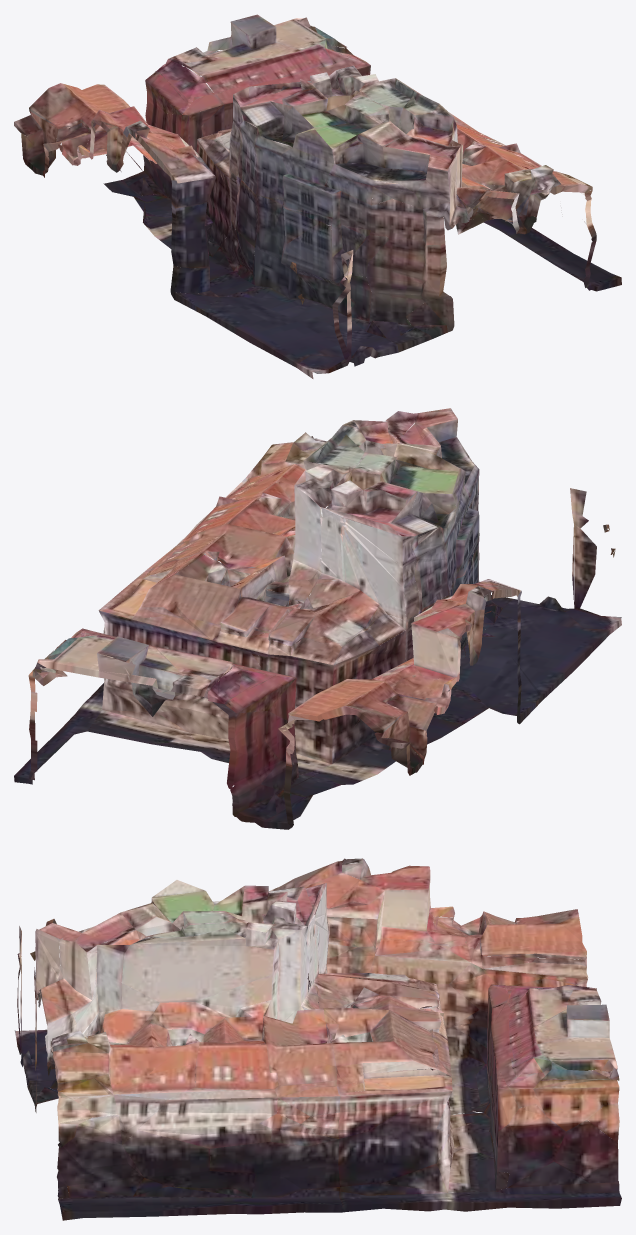
The picture shows the model from 3 angles, top to bottom: view 1: azimuth 30°, elevation 25°; view 2: azimuth 150°, elevation 25°; view 3: azimuth 270°, elevation 25°; orthographic projection. The views are drawn at different scales.
Parts seen in each view (by area): view 1: Mesh_0; view 2: Mesh_0; view 3: Mesh_0.
Boxes of the visible parts, x1,y1,x2,y2 form: Mesh_0: (14,14,621,378); Mesh_0: (14,408,621,829); Mesh_0: (14,858,621,1220).
Size of the model in its own units: 66.6 by 33.29 by 82.66.
2 materials, 2 textured.
